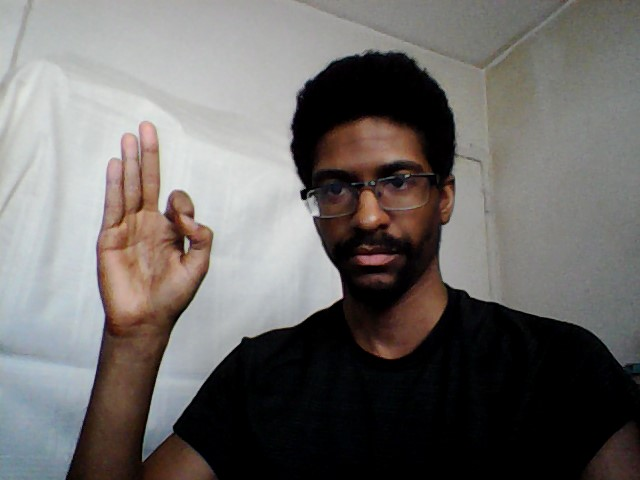f: (92, 117, 218, 334)
